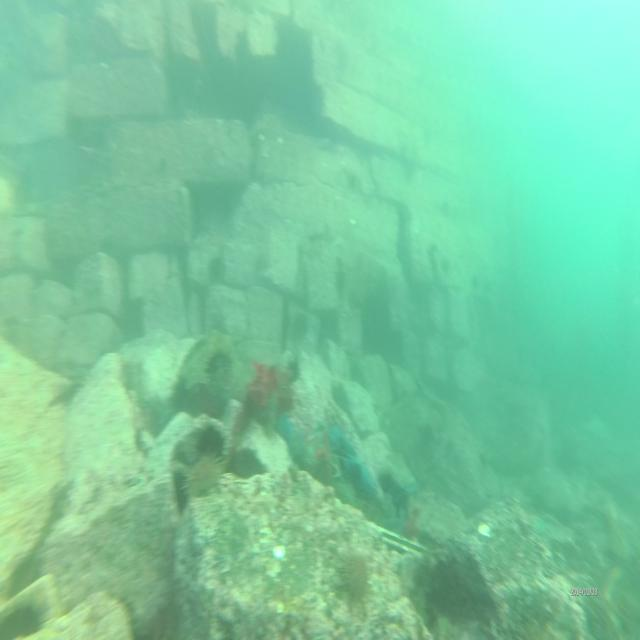echinus: (180, 451, 230, 502), (336, 554, 372, 606), (290, 306, 312, 349), (208, 251, 227, 286), (333, 262, 347, 304), (440, 250, 452, 277)
